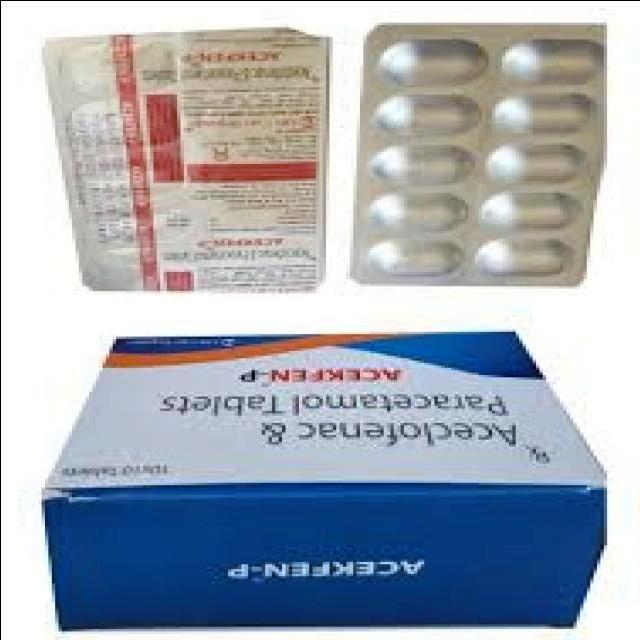authentic: (5, 314, 616, 632), (16, 24, 340, 304), (347, 13, 626, 296)
